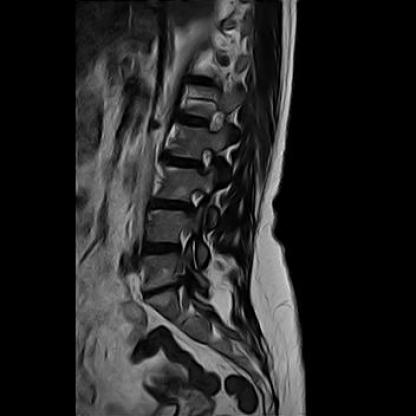Disc Bulgerotation: (141, 237, 182, 259), (143, 282, 180, 300)
